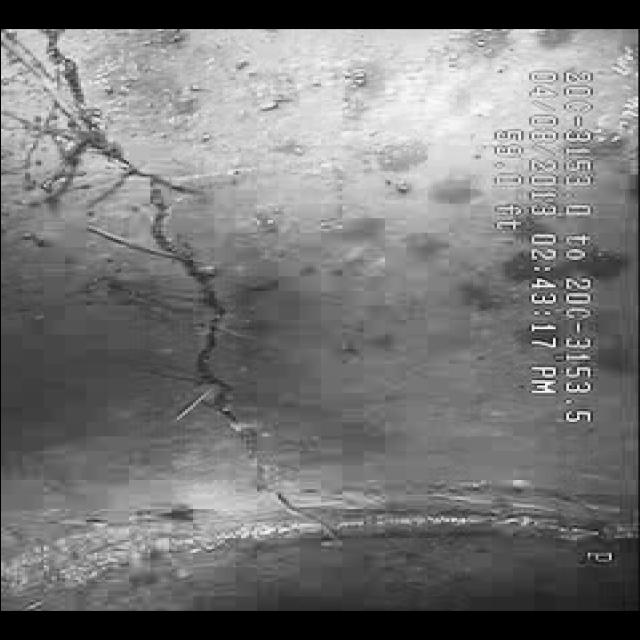Crack: (22, 59, 348, 534)
